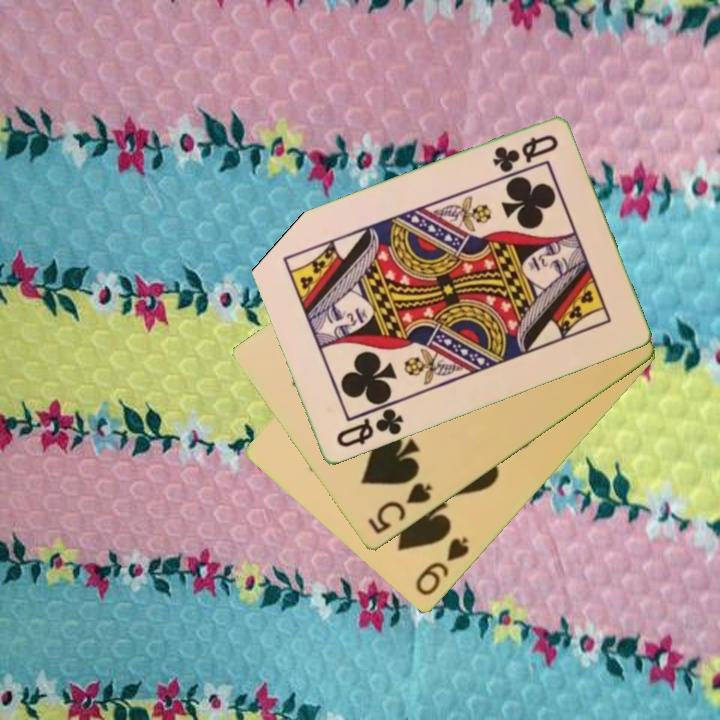5s: (364, 479, 436, 538)
9s: (411, 534, 472, 600)
Qc: (332, 400, 407, 451), (488, 131, 561, 176)
